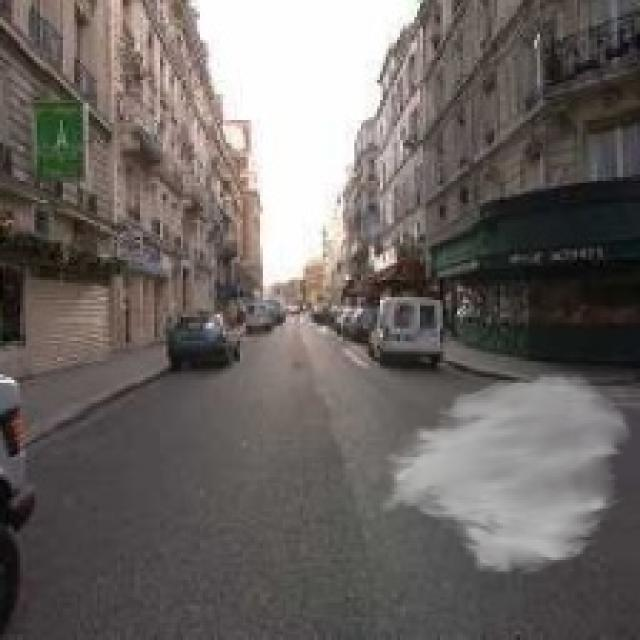Smoke: (374, 372, 634, 577)
